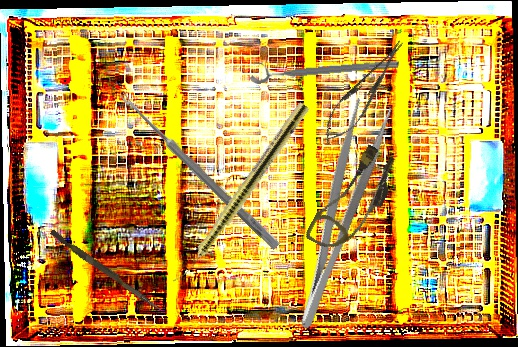Cannula: (303, 137, 405, 263)
Dressing Forceps: (275, 94, 397, 333)
Fixation Ring: (247, 48, 400, 85)
Handpiece: (170, 99, 311, 291)
Needle Holder: (314, 32, 414, 152)
Pusher: (47, 229, 165, 312)
Surgical Spoon: (116, 90, 282, 251)
